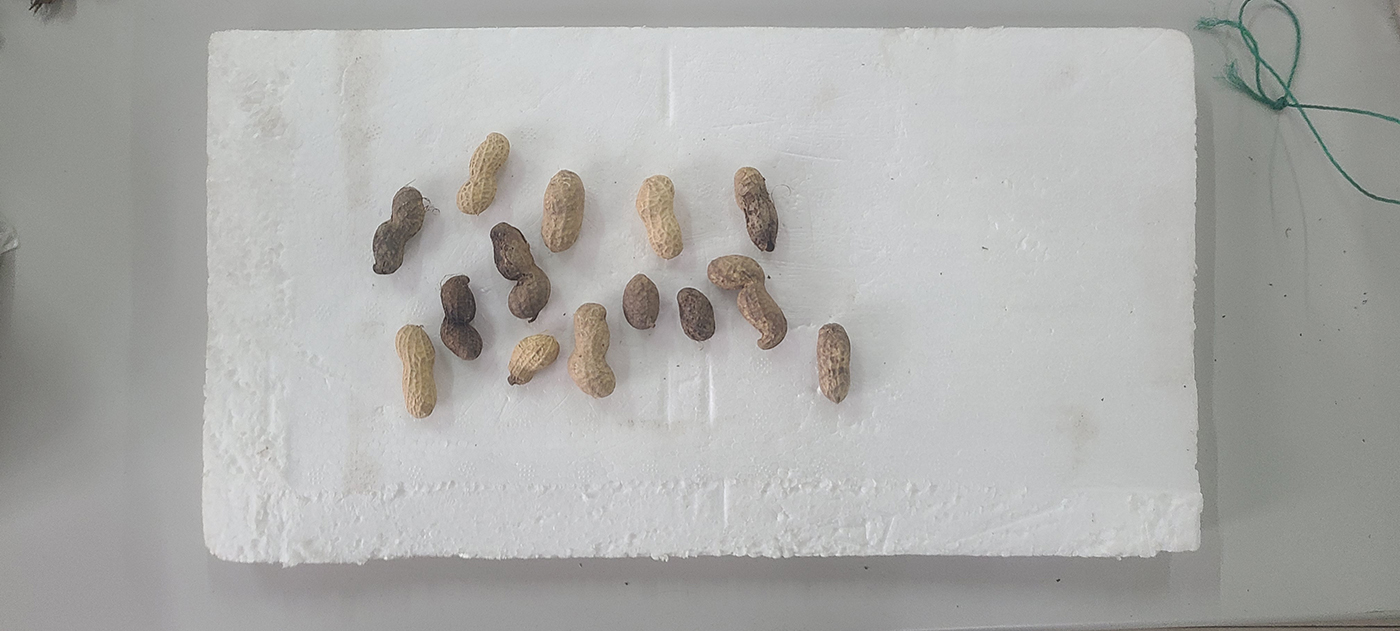h: (567, 304, 616, 399), (457, 132, 510, 214), (635, 175, 685, 260), (395, 325, 439, 418), (540, 170, 586, 252), (507, 335, 560, 386)
l: (707, 253, 788, 350), (491, 222, 551, 320), (372, 187, 424, 275), (734, 168, 780, 253), (440, 274, 483, 360), (817, 323, 850, 403), (623, 273, 661, 330), (678, 288, 715, 340)
